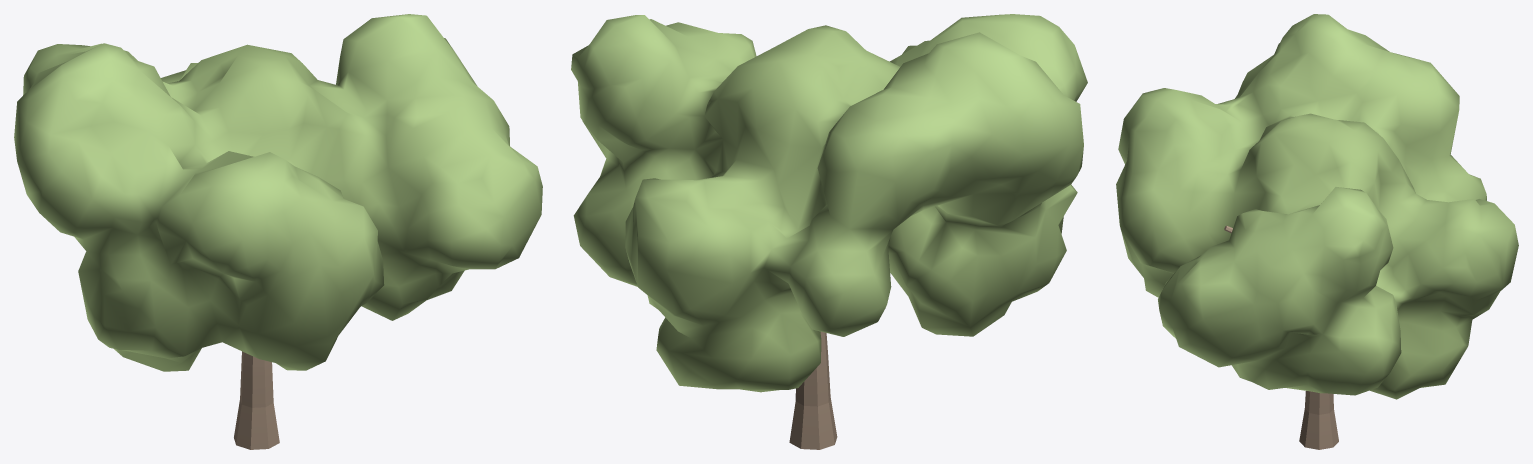
The model's file is tree_cherry.glb.
3 views of the same model, side by side, from view 1: azimuth 30°, elevation 25°; view 2: azimuth 150°, elevation 25°; view 3: azimuth 270°, elevation 25° (orthographic). The views are drawn at different scales.
Visible parts, largest first — view 1: tree_cherry; view 2: tree_cherry; view 3: tree_cherry.
Part boxes in pixels (bbox=[...]): tree_cherry: bbox=[14, 14, 542, 449]; tree_cherry: bbox=[571, 14, 1087, 449]; tree_cherry: bbox=[1116, 14, 1518, 449].
Size of the model in its own units: 6.55 by 5.64 by 5.8.
